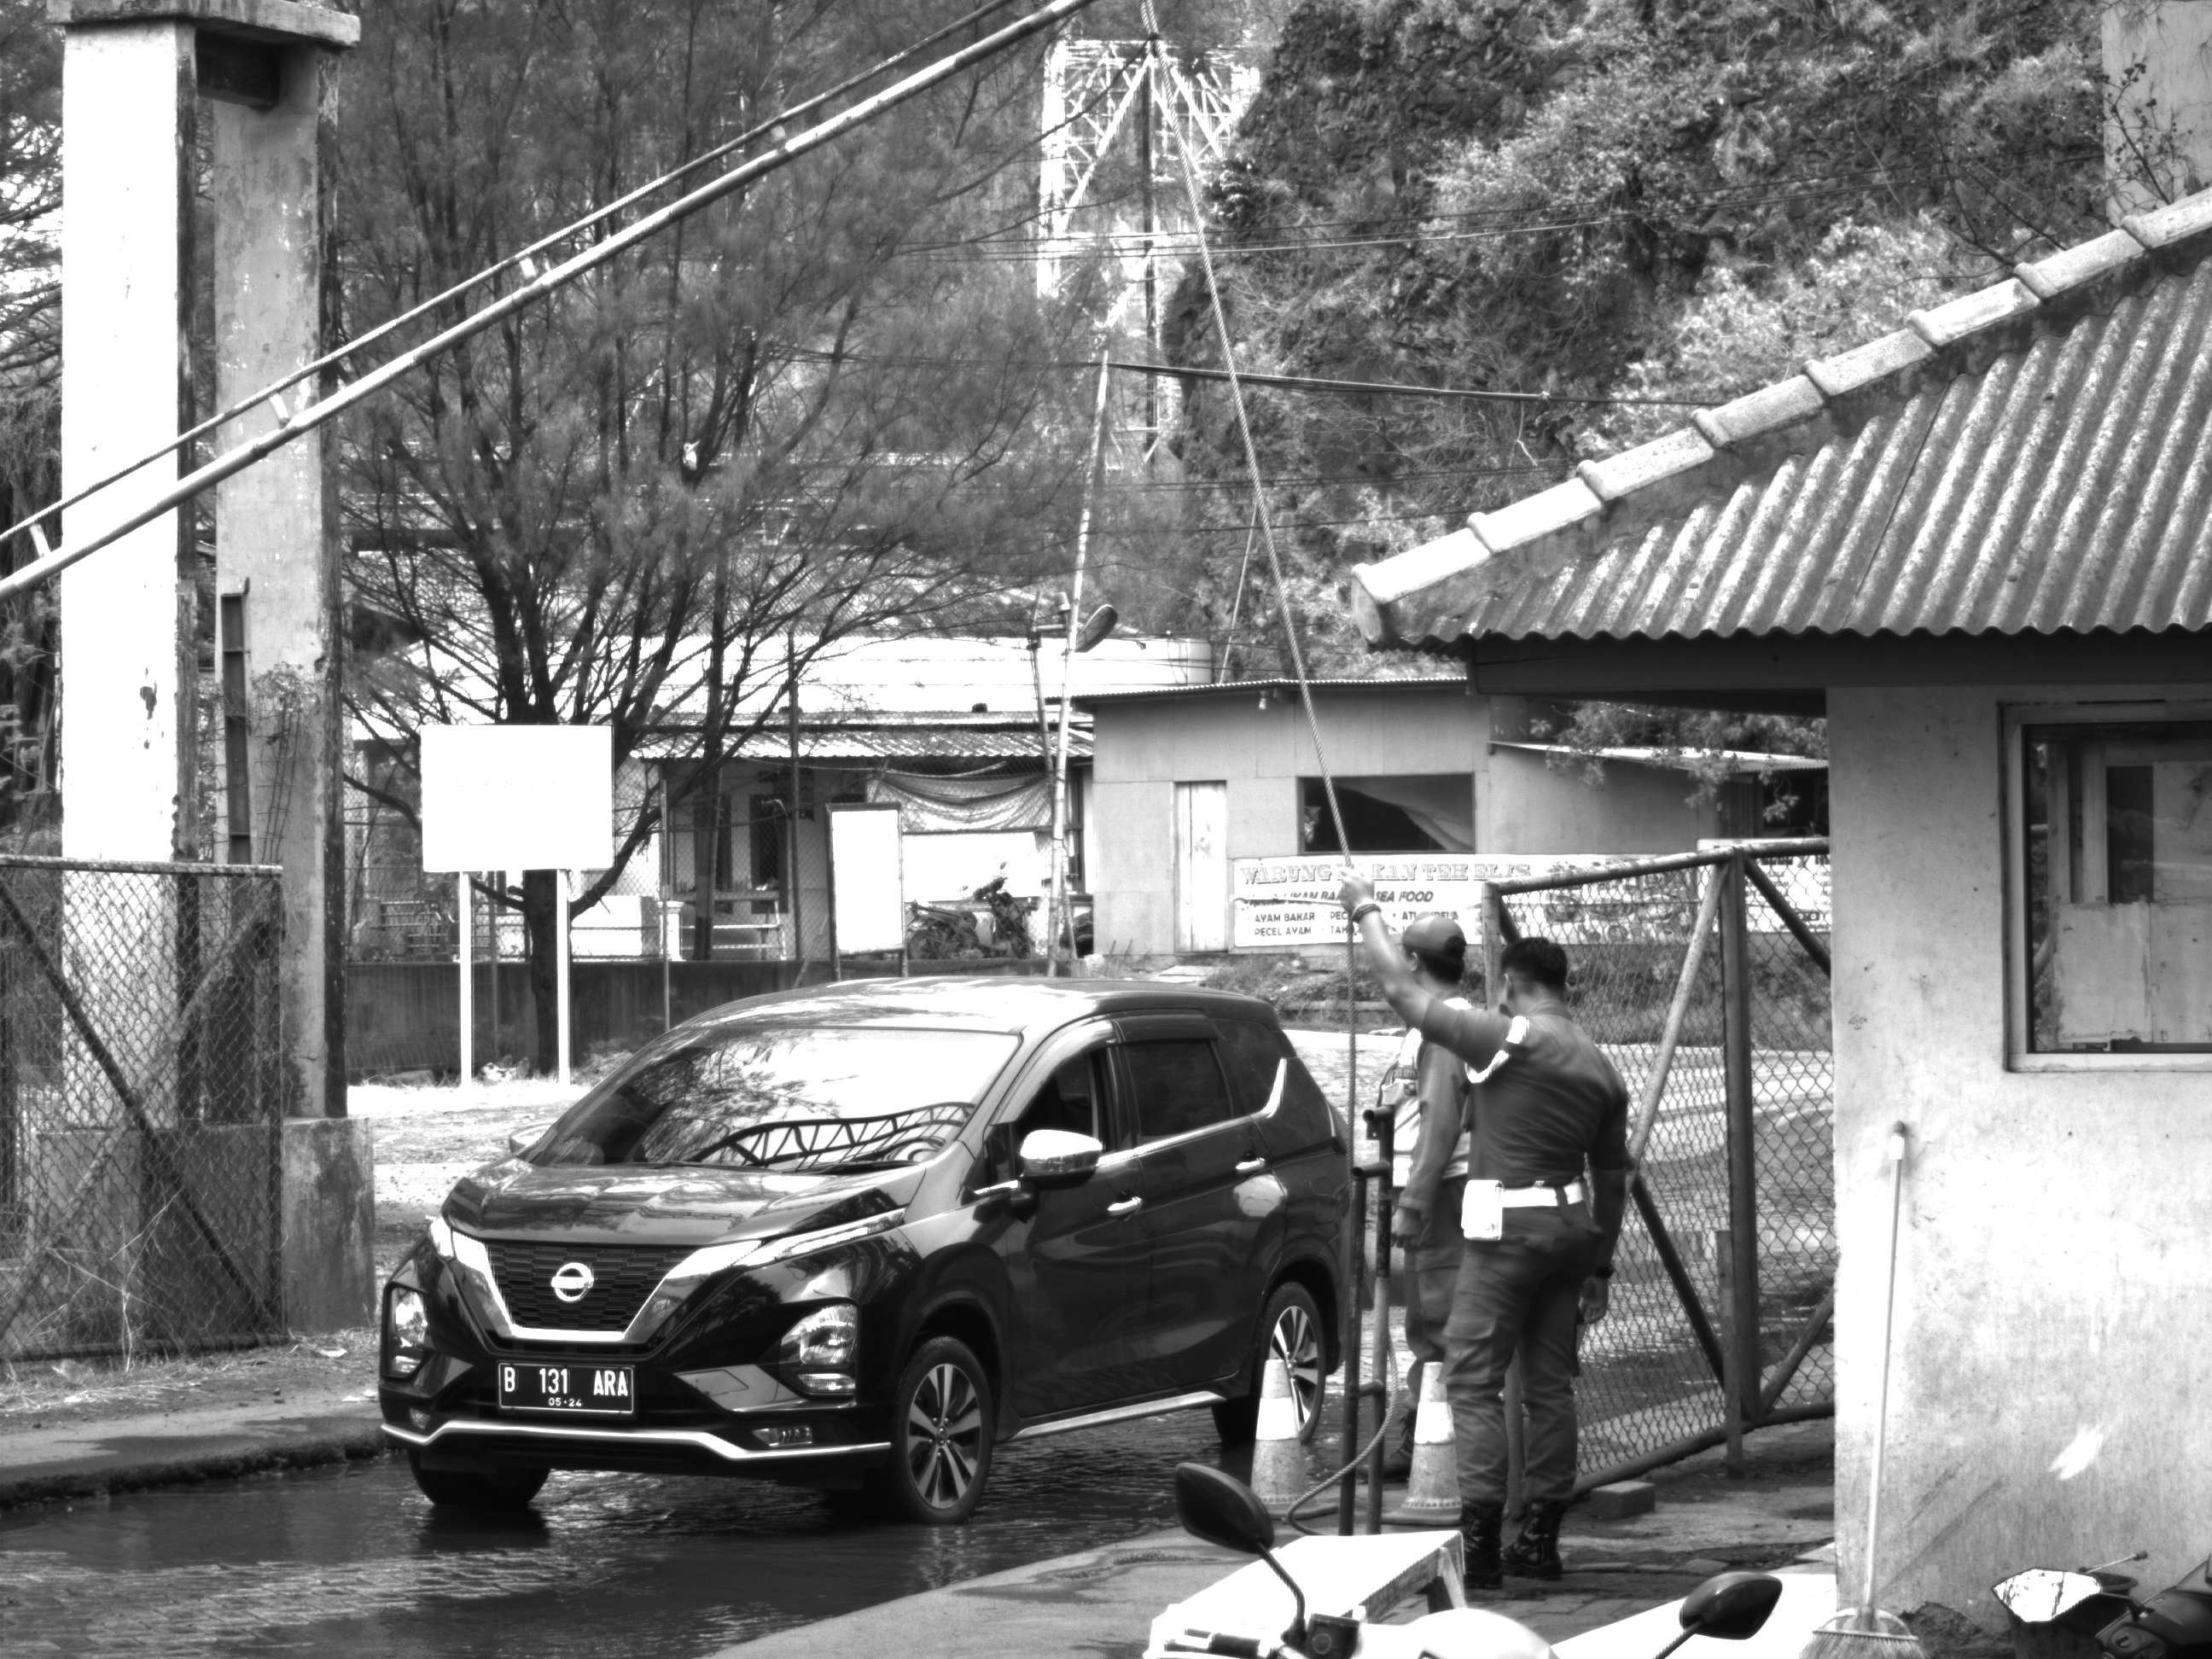day_small_front: (368, 980, 1094, 1535)
plate: (488, 1351, 643, 1416)
